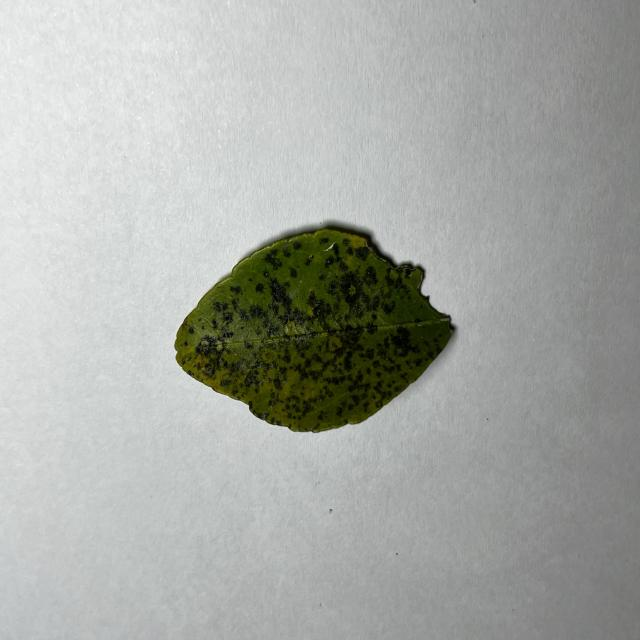sooty_mold: (175, 229, 451, 432)
